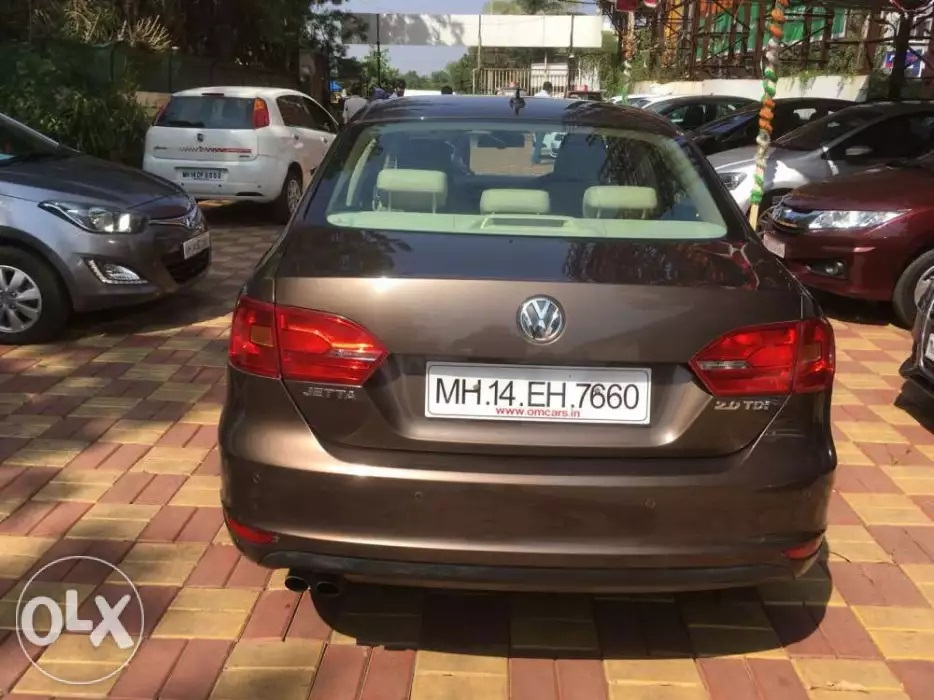licenseplate: (421, 359, 656, 433)
